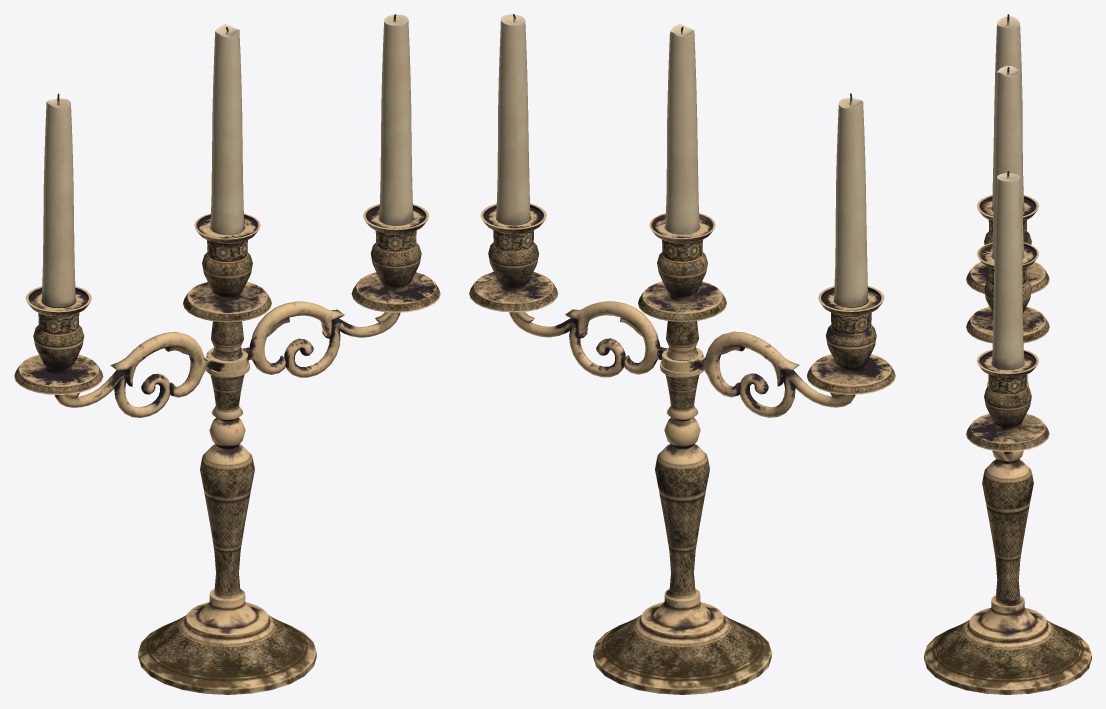
File: candle.glb
3 renders of one model, left to right at view 1: azimuth 30°, elevation 25°; view 2: azimuth 150°, elevation 25°; view 3: azimuth 270°, elevation 25°, orthographic. The views are drawn at different scales.
Visible parts, largest first — view 1: brass_candleholder_02; view 2: brass_candleholder_02; view 3: brass_candleholder_02.
Boxes of the visible parts, x1=… form: brass_candleholder_02: x1=14, y1=14, x2=440, y2=694; brass_candleholder_02: x1=469, y1=14, x2=895, y2=694; brass_candleholder_02: x1=924, y1=14, x2=1091, y2=694.
Size of the model in its own units: 0.2611 by 0.3794 by 0.0974.
Materials: 2 (2 with a texture image).
